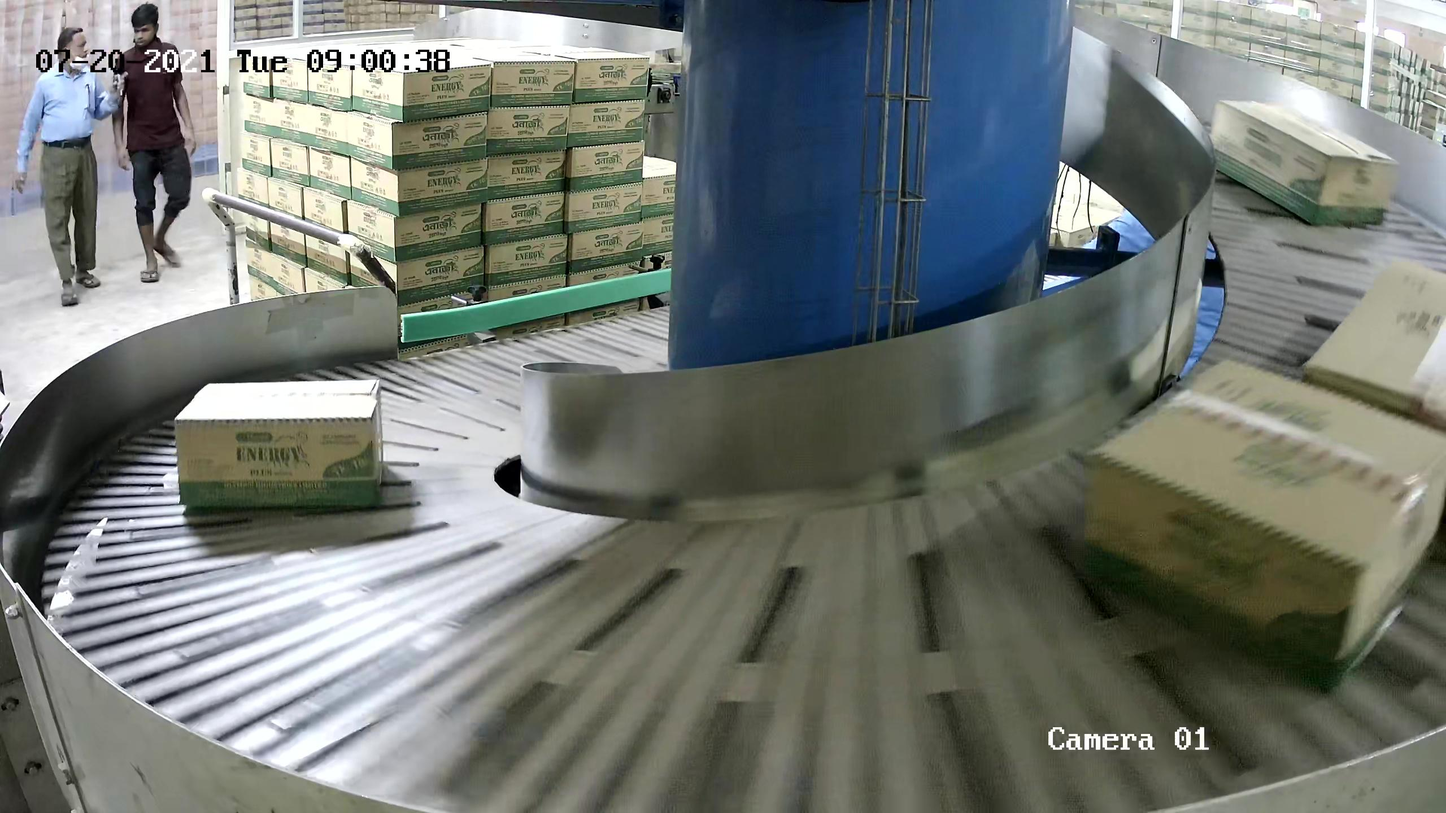Box: (1075, 356, 1446, 698), (1301, 253, 1446, 475), (171, 374, 387, 514), (1199, 95, 1400, 234)
